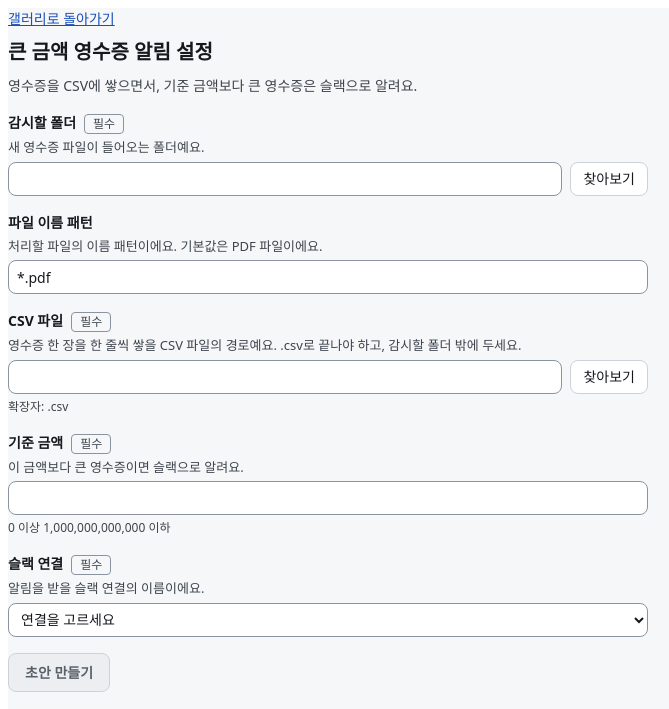
Test: RecipeForm path pickers › fills the field with the picked path and passes the kind of the field
Later steps or results of the test are not shown.
What coordinates should you click on to do the following:
click the 1st button "찾아보기"
I would click on:
 (609, 178)
Its box is [570,162,648,196].
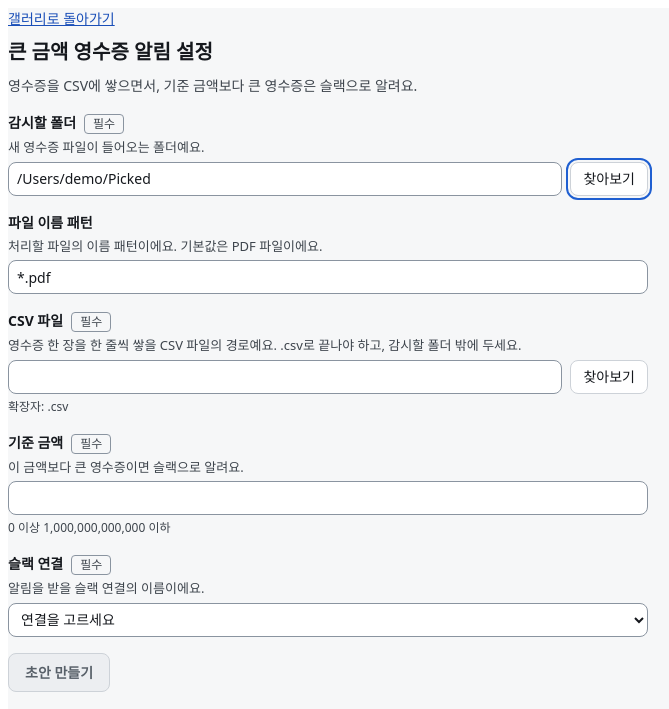
Check: the field labelled "감시할 폴더" holds "/Users/demo/Picked", box [8,162,562,196]
